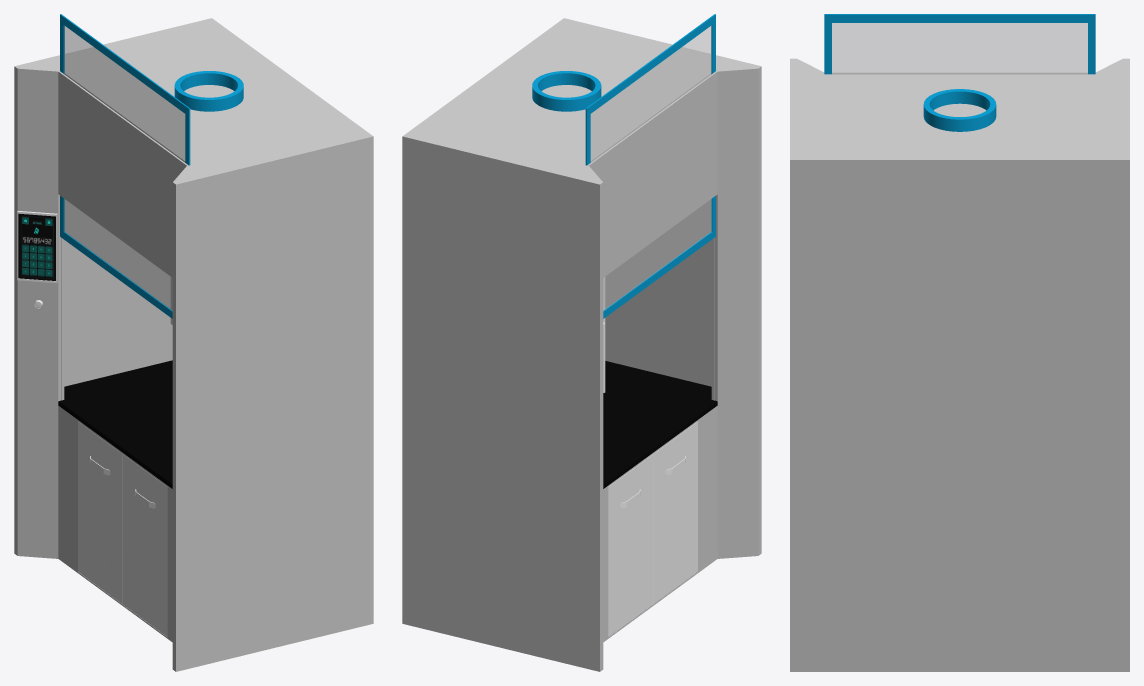
Rendered from fume_cupboards.glb.
The picture shows the model from 3 angles, left to right: view 1: azimuth 30°, elevation 25°; view 2: azimuth 150°, elevation 25°; view 3: azimuth 270°, elevation 25°; orthographic projection. The views are drawn at different scales.
Parts seen in each view (by area): view 1: body_13, glass_6, mesa_4, door right_3, door left_11, frame_14, screen_8, air out_12; view 2: body_13, glass_6, mesa_4, door left_11, door right_3, frame_14, air out_12; view 3: body_13, glass_6, frame_14, air out_12.
Boxes of the visible parts, x1,y1,x2,y2 form: body_13: (14, 18, 373, 671); glass_6: (64, 25, 185, 310); mesa_4: (58, 360, 172, 488); door right_3: (123, 454, 167, 636); door left_11: (78, 421, 122, 604); frame_14: (60, 14, 190, 318); screen_8: (18, 213, 55, 280); air out_12: (174, 71, 243, 111); body_13: (402, 18, 761, 671); glass_6: (590, 25, 711, 310); mesa_4: (603, 361, 717, 488); door left_11: (608, 454, 652, 636); door right_3: (653, 421, 697, 604); frame_14: (585, 14, 715, 318); air out_12: (532, 71, 601, 111); body_13: (790, 58, 1129, 671); glass_6: (832, 23, 1087, 74); frame_14: (824, 14, 1095, 74); air out_12: (923, 89, 996, 131).
Size of the model in its own units: 1.3 by 3.4 by 1.83.
8 materials, 1 textured.
